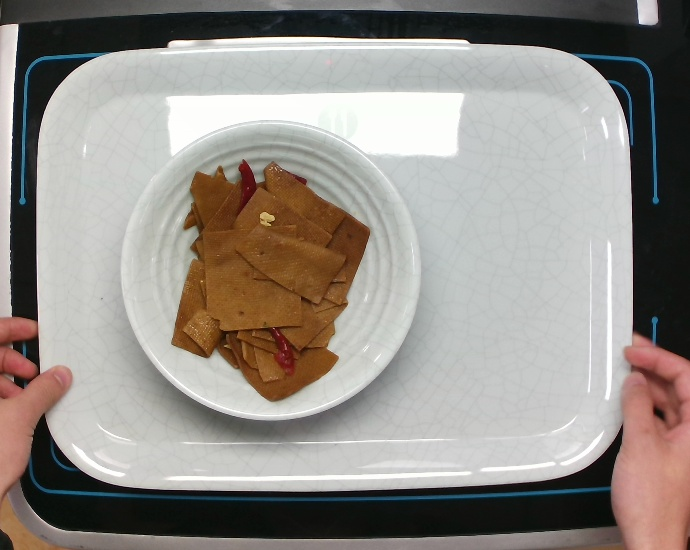JYsf-Xiao_Tang_Wan: (119, 119, 425, 422)
